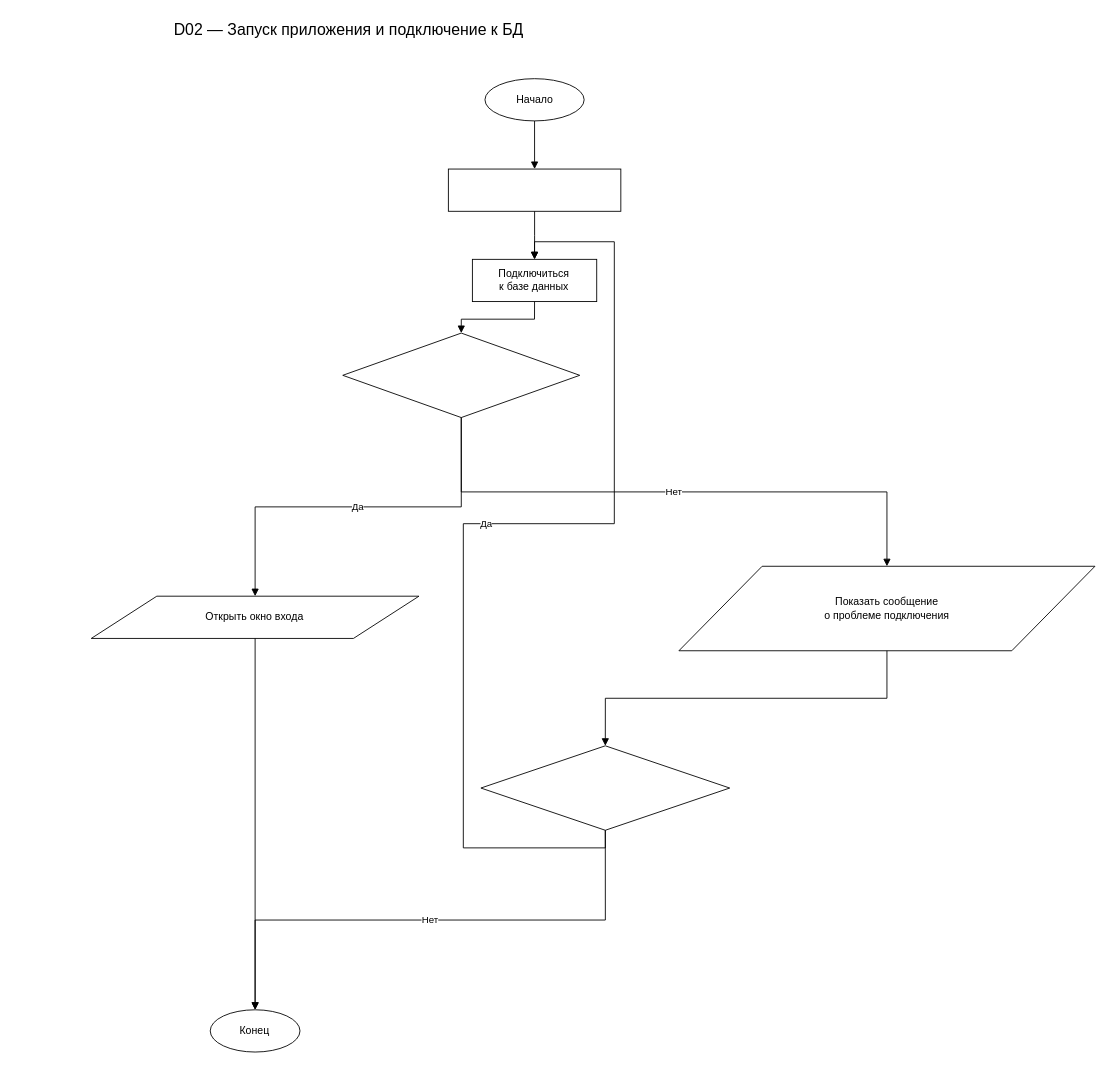
Image size: 1111x1067. Some labels were removed from this diagram. The box of each missing label's shape, as (x1, y1, x2, y2) in pixels:
Загрузить настройки приложения: (447, 168, 621, 211)
Повторить подключение?: (480, 745, 730, 830)
Подключение успешно?: (342, 332, 580, 418)
